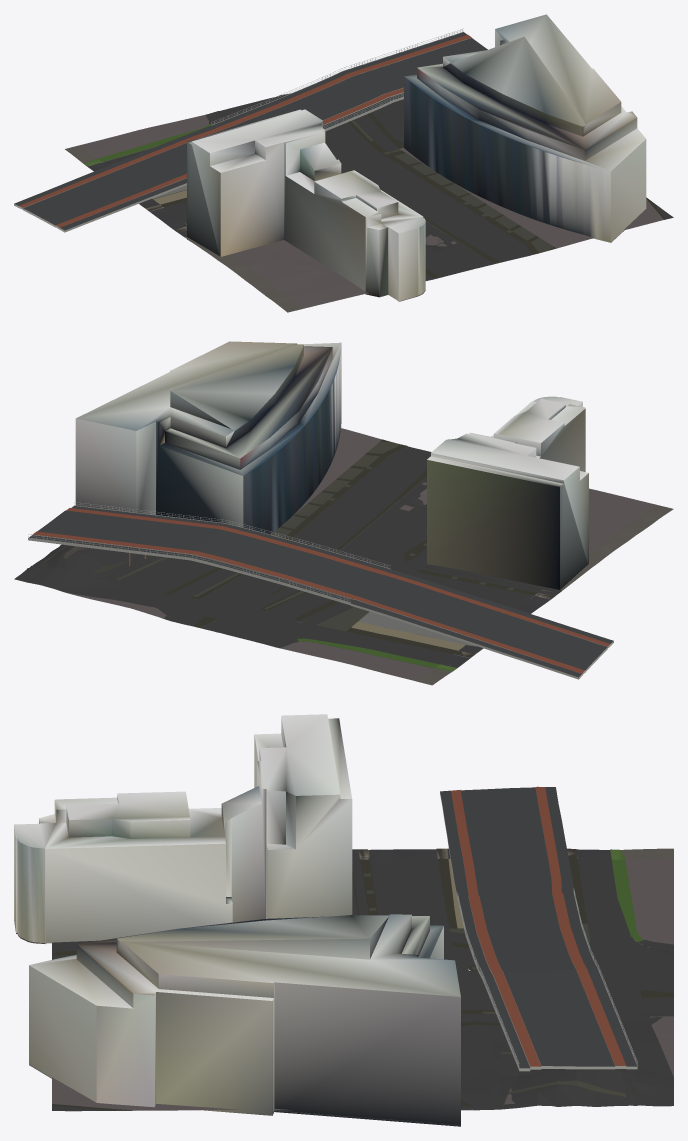
3 renders of one model, top to bottom at view 1: azimuth 30°, elevation 25°; view 2: azimuth 150°, elevation 25°; view 3: azimuth 270°, elevation 25°, orthographic. The views are drawn at different scales.
Visible parts, largest first — view 1: c_m14_p04; view 2: c_m14_p04; view 3: c_m14_p04.
Part boxes in pixels (bbox=[...]): c_m14_p04: bbox=[14, 14, 673, 312]; c_m14_p04: bbox=[14, 341, 673, 685]; c_m14_p04: bbox=[14, 714, 673, 1126].
Size of the model in its own units: 165 by 36.46 by 136.
